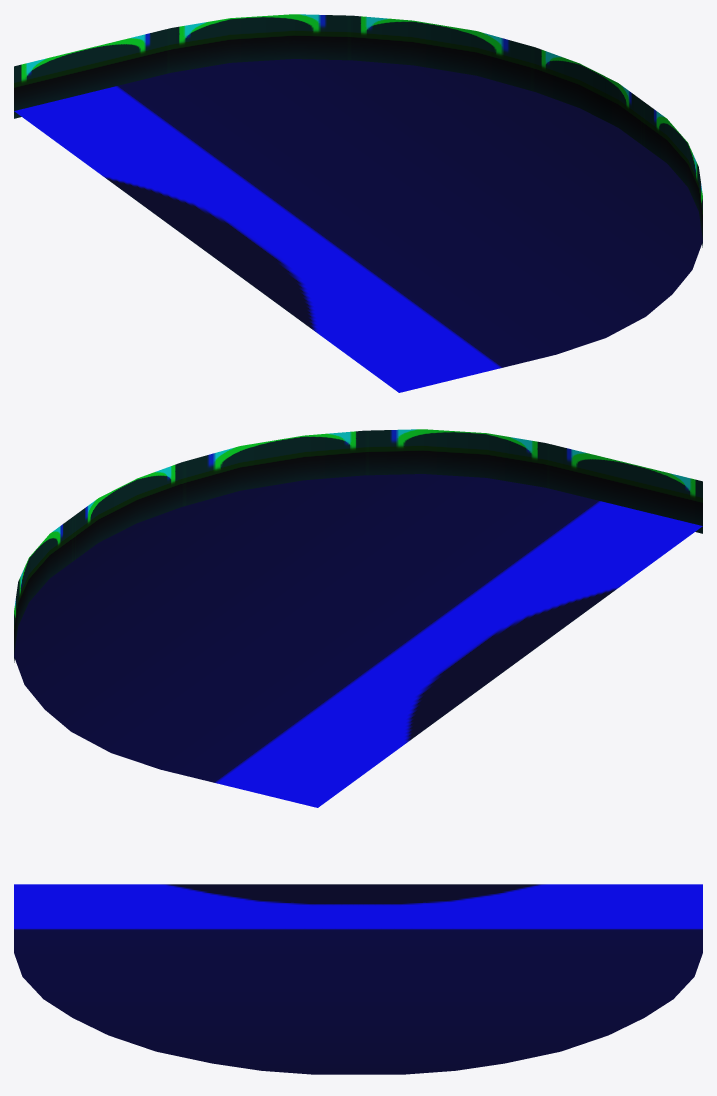
Rendered from SkillAreaFX_Mesh.FBX.
3 renders of one model, top to bottom at view 1: azimuth 30°, elevation 25°; view 2: azimuth 150°, elevation 25°; view 3: azimuth 270°, elevation 25°, orthographic. The views are drawn at different scales.
Visible parts, largest first — view 1: SkillAreaFX_Mesh; view 2: SkillAreaFX_Mesh; view 3: SkillAreaFX_Mesh.
Boxes of the visible parts, x1=… form: SkillAreaFX_Mesh: x1=14, y1=14, x2=702, y2=392; SkillAreaFX_Mesh: x1=14, y1=429, x2=702, y2=807; SkillAreaFX_Mesh: x1=14, y1=884, x2=702, y2=1074.
Bounding box in the file's own units: 1181 × 1807 × 136.
